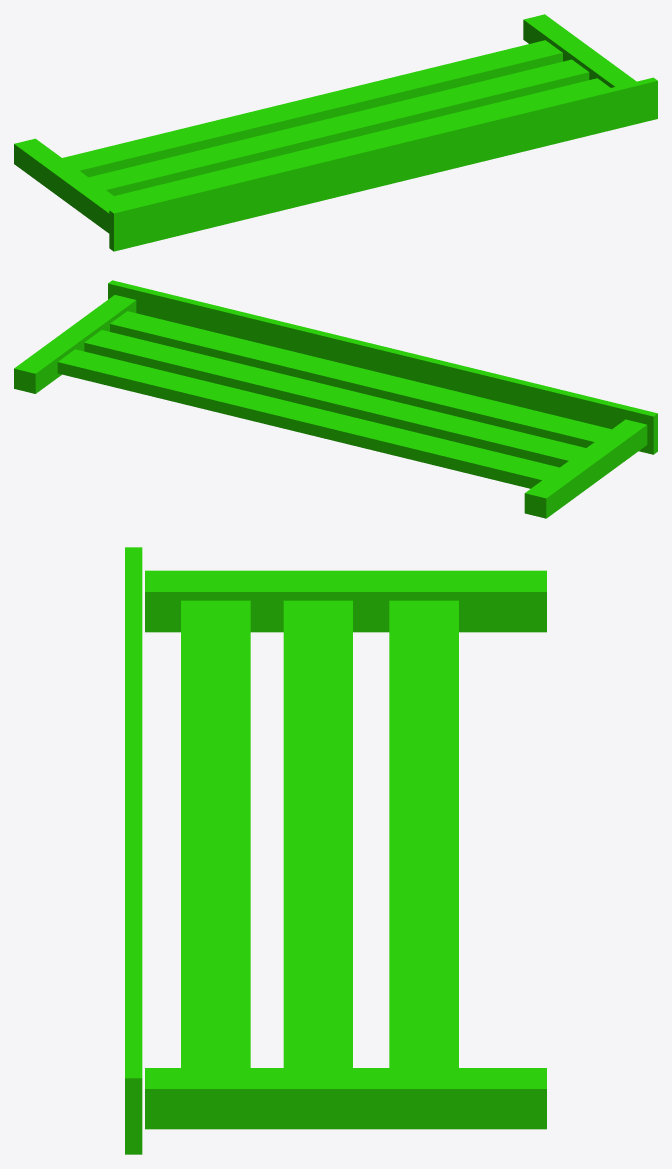
File: Shelf_06_Lod0.fbx
3 views of the same model, one above another, from view 1: azimuth 30°, elevation 25°; view 2: azimuth 150°, elevation 25°; view 3: azimuth 270°, elevation 25° (orthographic). The views are drawn at different scales.
Visible parts, largest first — view 1: Shelf_06_Lod0; view 2: Shelf_06_Lod0; view 3: Shelf_06_Lod0.
Boxes of the visible parts, x1,y1,x2,y2 form: Shelf_06_Lod0: [14, 14, 657, 251]; Shelf_06_Lod0: [14, 280, 657, 518]; Shelf_06_Lod0: [125, 547, 546, 1154].
Size of the model in its own units: 68.76 by 4.61 by 23.11.
